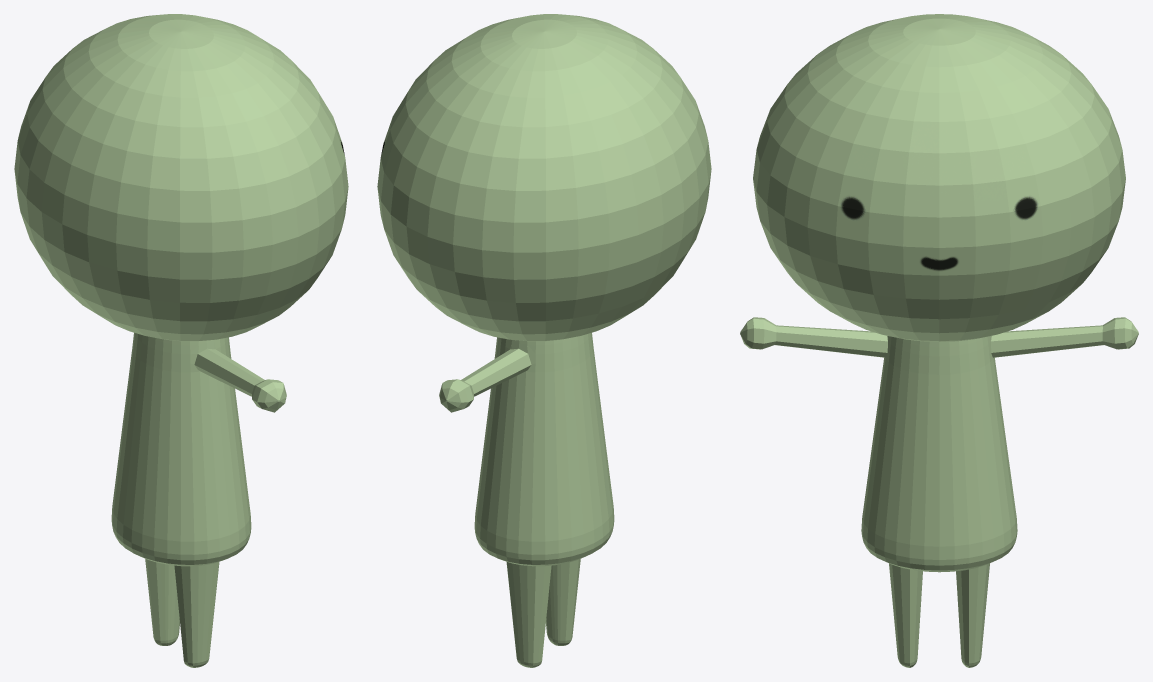
The model's file is cliente.obj.
The picture shows the model from 3 angles, left to right: view 1: azimuth 30°, elevation 25°; view 2: azimuth 150°, elevation 25°; view 3: azimuth 270°, elevation 25°; orthographic projection.
Visible parts, largest first — view 1: Sphere; view 2: Sphere; view 3: Sphere.
Boxes of the visible parts, x1,y1,x2,y2 form: Sphere: [14, 14, 348, 667]; Sphere: [377, 14, 711, 667]; Sphere: [740, 14, 1138, 667].
Bounding box in the file's own units: 1.23 × 2.63 × 1.49.
